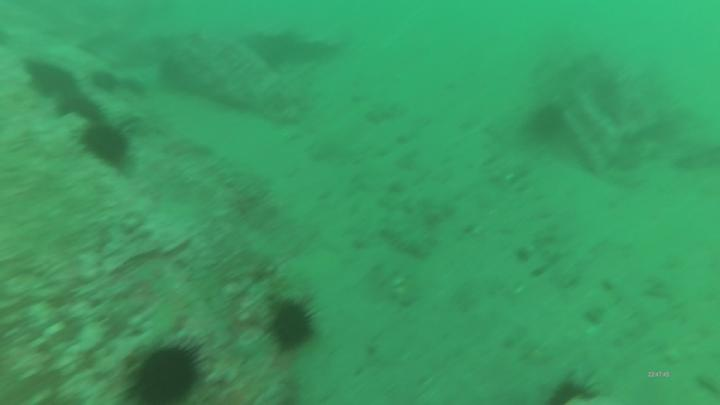echinus: (124, 340, 210, 405), (263, 296, 323, 358), (77, 120, 133, 169), (544, 372, 611, 405), (23, 61, 79, 99), (529, 103, 568, 144), (53, 94, 104, 120), (91, 67, 119, 94)
